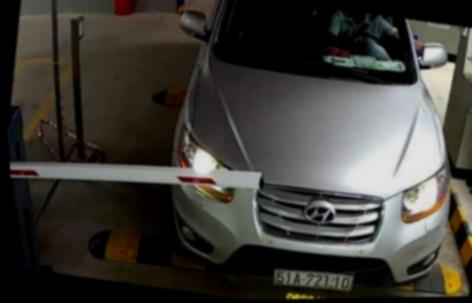License_Plate: (272, 258, 358, 298)
